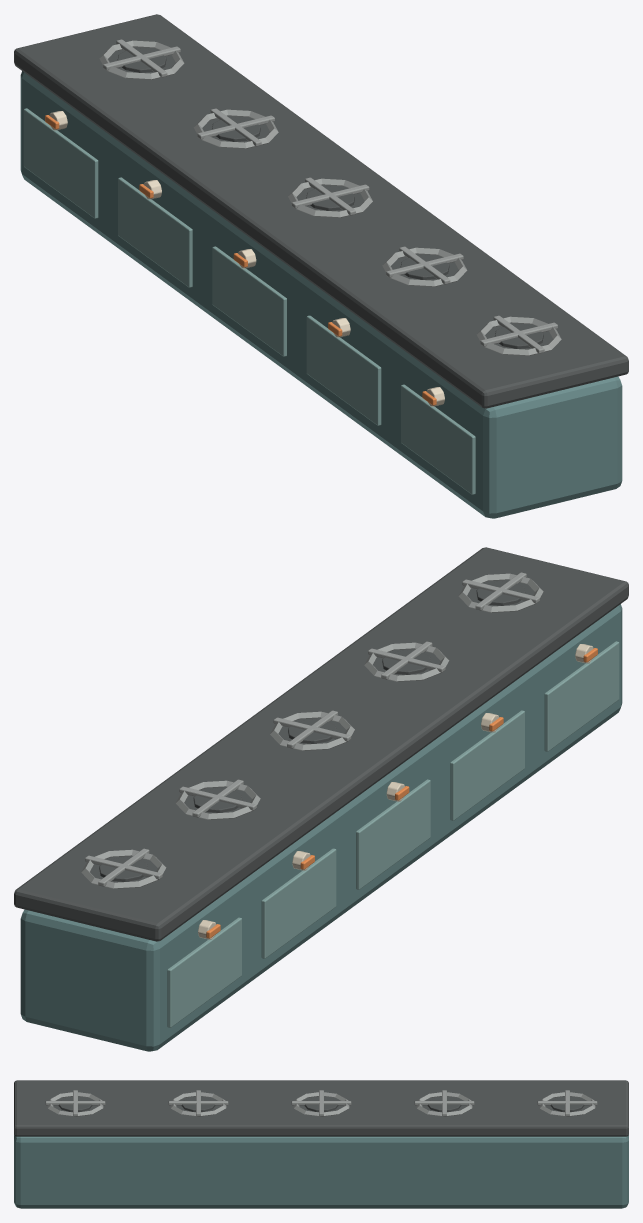
File: stove.glb
The picture shows the model from 3 angles, top to bottom: view 1: azimuth 30°, elevation 25°; view 2: azimuth 150°, elevation 25°; view 3: azimuth 270°, elevation 25°; orthographic projection. The views are drawn at different scales.
Parts seen in each view (by area): view 1: stoveTop, stoveBody, frontPanel05, frontPanel02, frontPanel04, frontPanel01, frontPanel03, burnerRing02, burnerRing04, burnerRing05, burnerRing01, burnerRing03; view 2: stoveTop, stoveBody, frontPanel01, frontPanel04, frontPanel02, frontPanel05, frontPanel03, burnerRing04, burnerRing02, burnerRing01, burnerRing05, burnerRing03; view 3: stoveBody, stoveTop, burnerRing01, burnerRing02, burnerRing03, burnerRing04, burnerRing05, burnerCore01, burnerCore02, burnerCore03, burnerCore04, burnerCore05 (+5 smaller).
Part boxes in pixels (x1,y1,x2,y2): stoveTop: [14, 14, 628, 408]; stoveBody: [20, 71, 622, 518]; frontPanel05: [23, 108, 98, 218]; frontPanel02: [306, 315, 381, 425]; frontPanel04: [118, 177, 192, 287]; frontPanel01: [401, 384, 475, 494]; frontPanel03: [212, 246, 286, 356]; burnerRing02: [382, 247, 467, 286]; burnerRing04: [193, 109, 278, 148]; burnerRing05: [99, 40, 184, 79]; burnerRing01: [476, 316, 561, 355]; burnerRing03: [288, 178, 372, 217]; stoveTop: [14, 547, 628, 941]; stoveBody: [20, 604, 622, 1051]; frontPanel01: [544, 641, 619, 751]; frontPanel04: [261, 848, 336, 958]; frontPanel02: [450, 710, 524, 820]; frontPanel05: [167, 917, 241, 1027]; frontPanel03: [356, 779, 430, 889]; burnerRing04: [175, 780, 260, 819]; burnerRing02: [364, 642, 449, 681]; burnerRing01: [458, 573, 543, 612]; burnerRing05: [81, 849, 166, 888]; burnerRing03: [270, 711, 354, 750]; stoveBody: [14, 1134, 628, 1208]; stoveTop: [14, 1080, 628, 1136]; burnerRing01: [47, 1092, 103, 1116]; burnerRing02: [170, 1092, 226, 1116]; burnerRing03: [293, 1092, 349, 1116]; burnerRing04: [416, 1092, 472, 1116]; burnerRing05: [539, 1092, 595, 1116]; burnerCore01: [58, 1097, 92, 1111]; burnerCore02: [181, 1097, 215, 1111]; burnerCore03: [304, 1097, 338, 1111]; burnerCore04: [427, 1097, 461, 1111]; burnerCore05: [550, 1097, 584, 1111].
Bounding box in the file's own units: 1.3 × 1.1 × 6.8.
